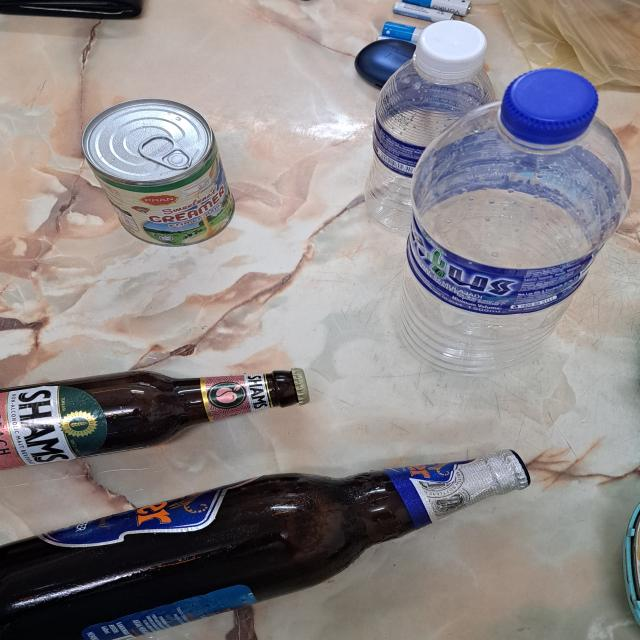can: (84, 94, 238, 248)
glass bottle: (0, 451, 531, 640), (0, 364, 312, 468)
plastic bottle: (396, 68, 624, 380), (375, 18, 496, 237)
plastic bottle cap: (501, 71, 596, 150), (412, 18, 489, 83)
pop tab: (141, 130, 193, 176)
